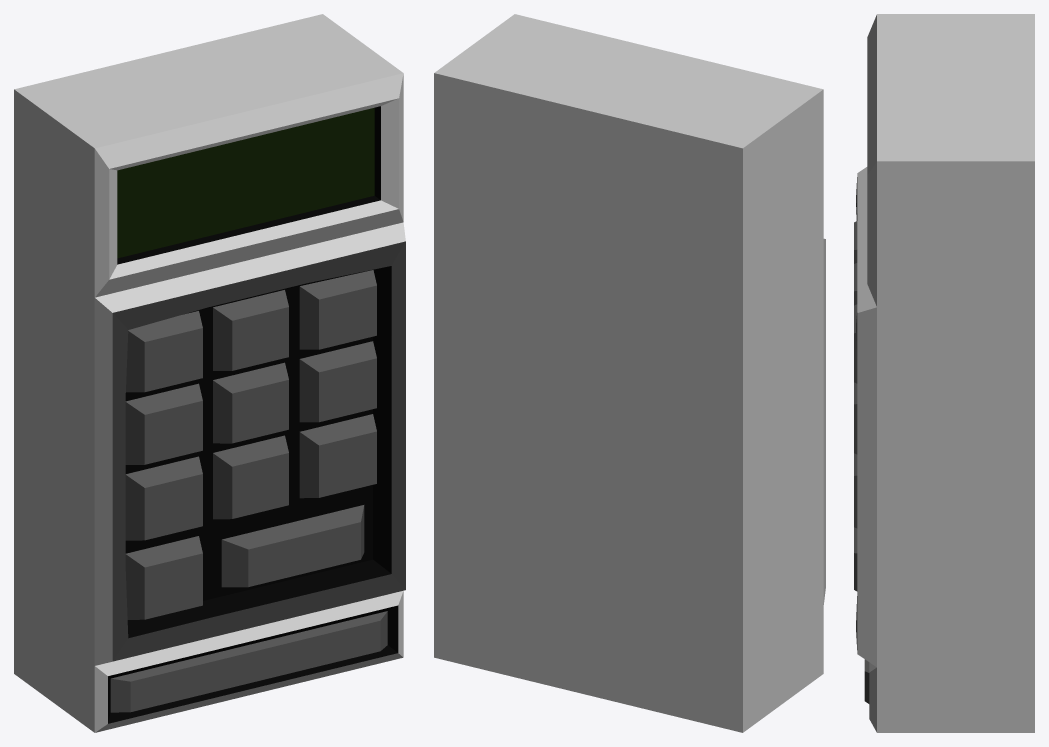
File: Door_Pinpad_Asset.fbx
3 views of the same model, side by side, from view 1: azimuth 30°, elevation 25°; view 2: azimuth 150°, elevation 25°; view 3: azimuth 270°, elevation 25° (orthographic). The views are drawn at different scales.
Visible parts, largest first — view 1: Pinpad; view 2: Pinpad; view 3: Pinpad.
Part boxes in pixels (x1=…): Pinpad: x1=14, y1=14, x2=405, y2=732; Pinpad: x1=434, y1=14, x2=825, y2=732; Pinpad: x1=854, y1=14, x2=1034, y2=732.
Size of the model in its own units: 1.66 by 3 by 0.8601.
